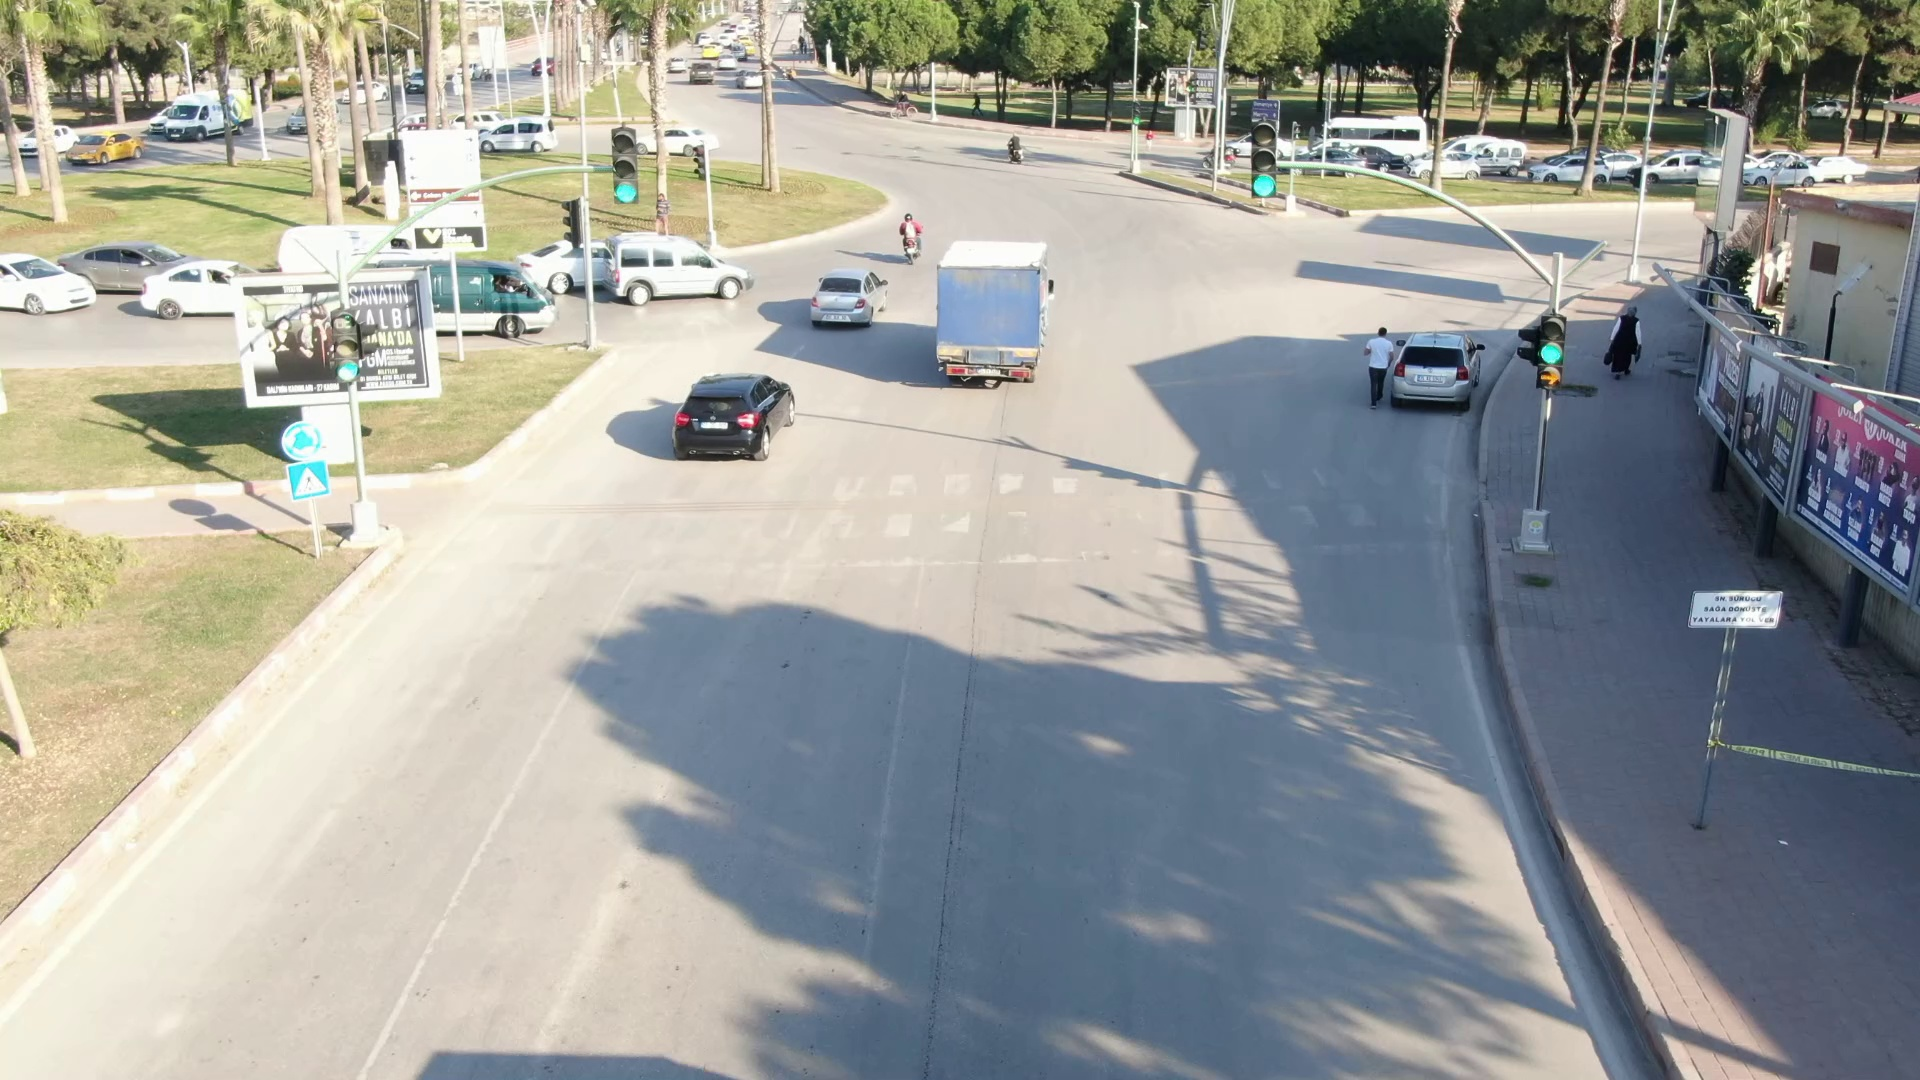car: (654, 351, 810, 464), (46, 231, 228, 324), (426, 254, 584, 354), (594, 224, 764, 309), (1390, 324, 1488, 419), (57, 115, 164, 181), (799, 264, 898, 331), (473, 107, 552, 164), (1514, 151, 1613, 189)
person: (1596, 297, 1650, 389), (1350, 310, 1397, 406)
